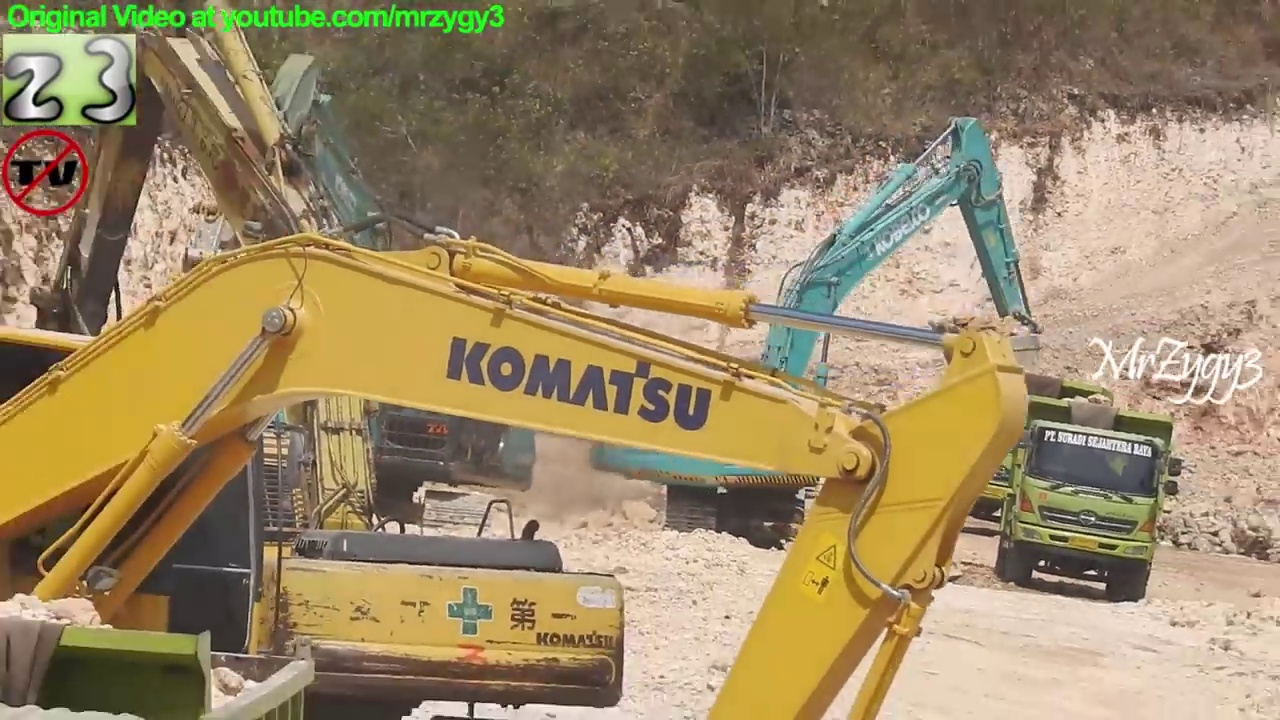excavator: (3, 212, 1028, 720), (2, 2, 630, 720), (147, 41, 546, 567), (588, 110, 1044, 559)
truck: (989, 389, 1188, 607), (926, 359, 1112, 537)
